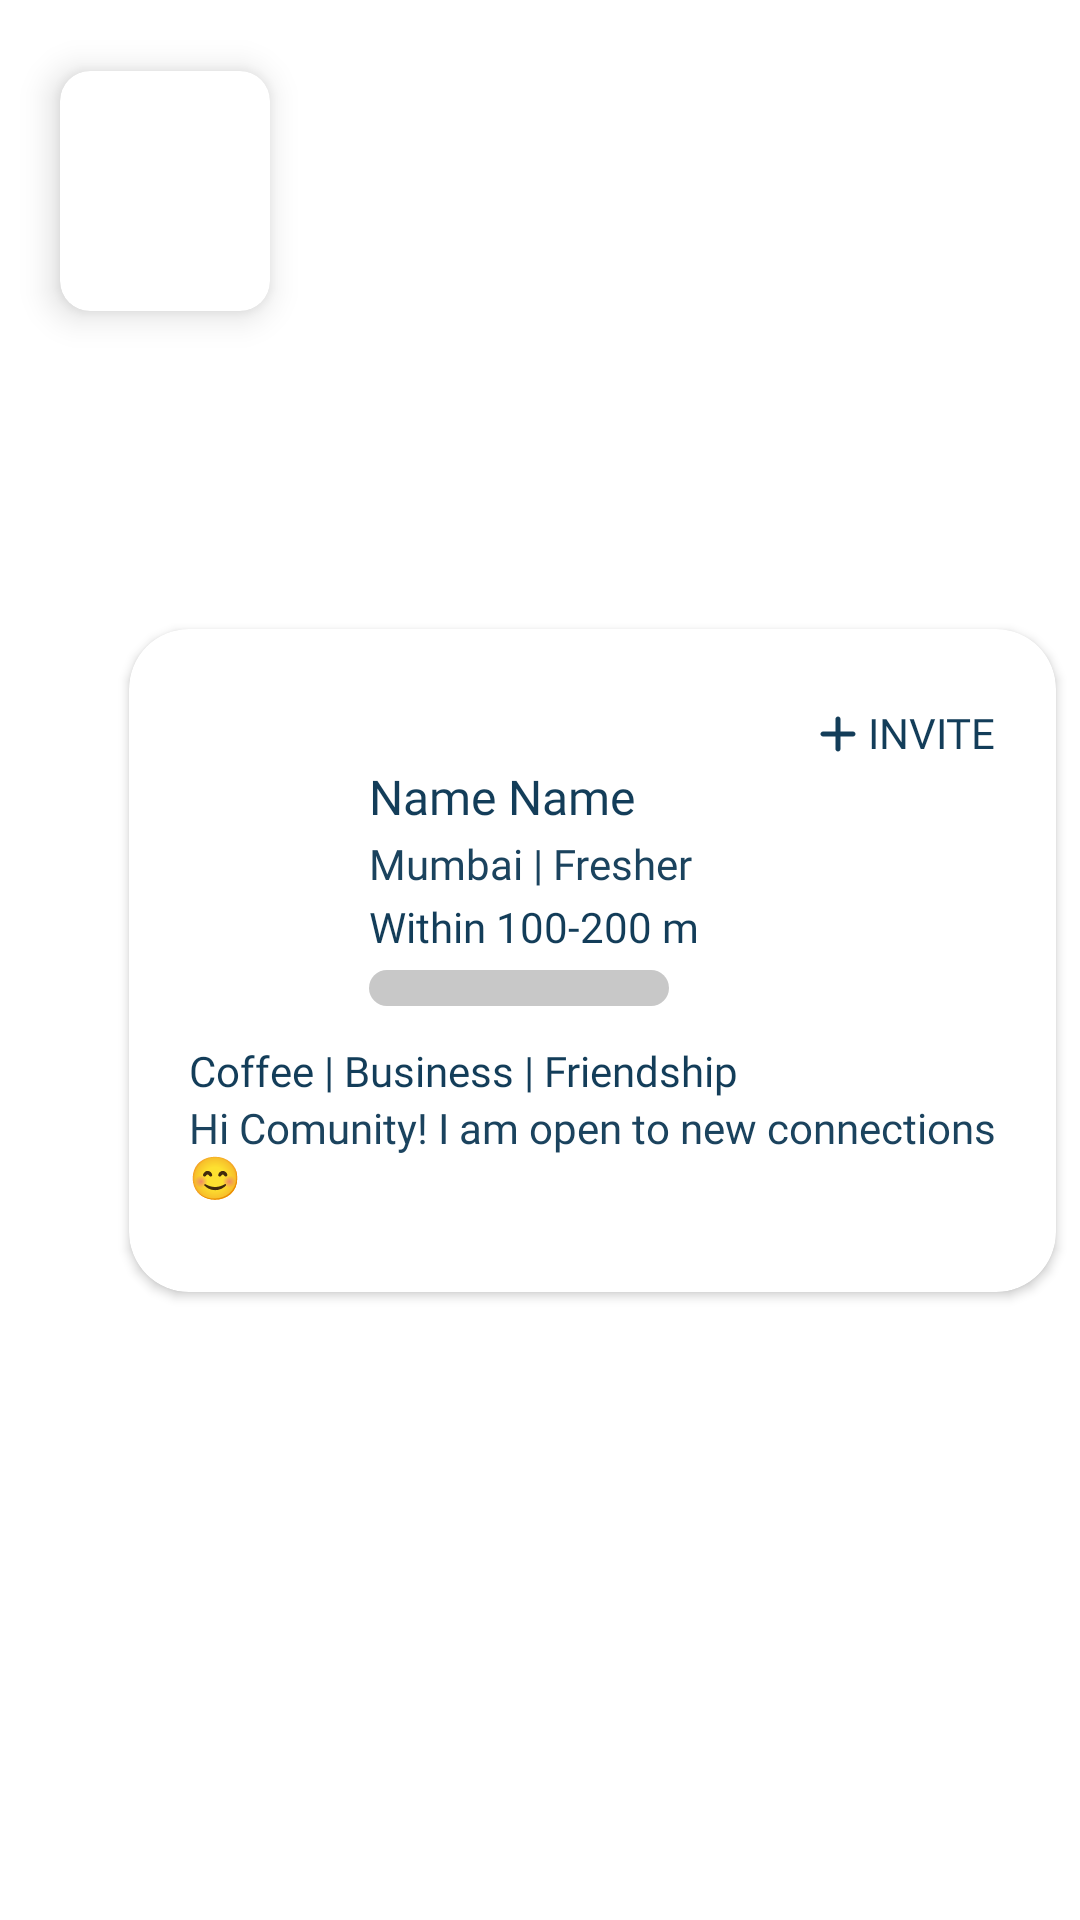

Screen size 1080x1920. Icon name, then its box in pixels as region(x1, y1, x2, y2):
add: region(820, 716, 856, 752)
